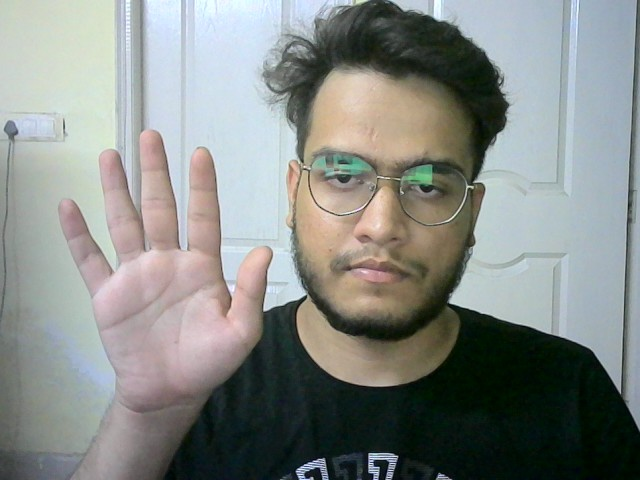Hello: (54, 129, 278, 405)
